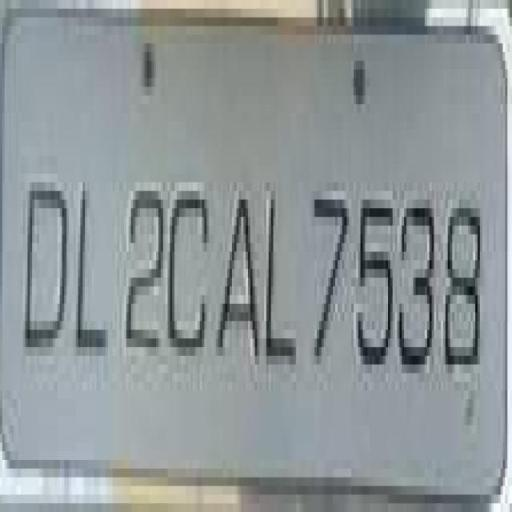number plate: (0, 0, 486, 503)
